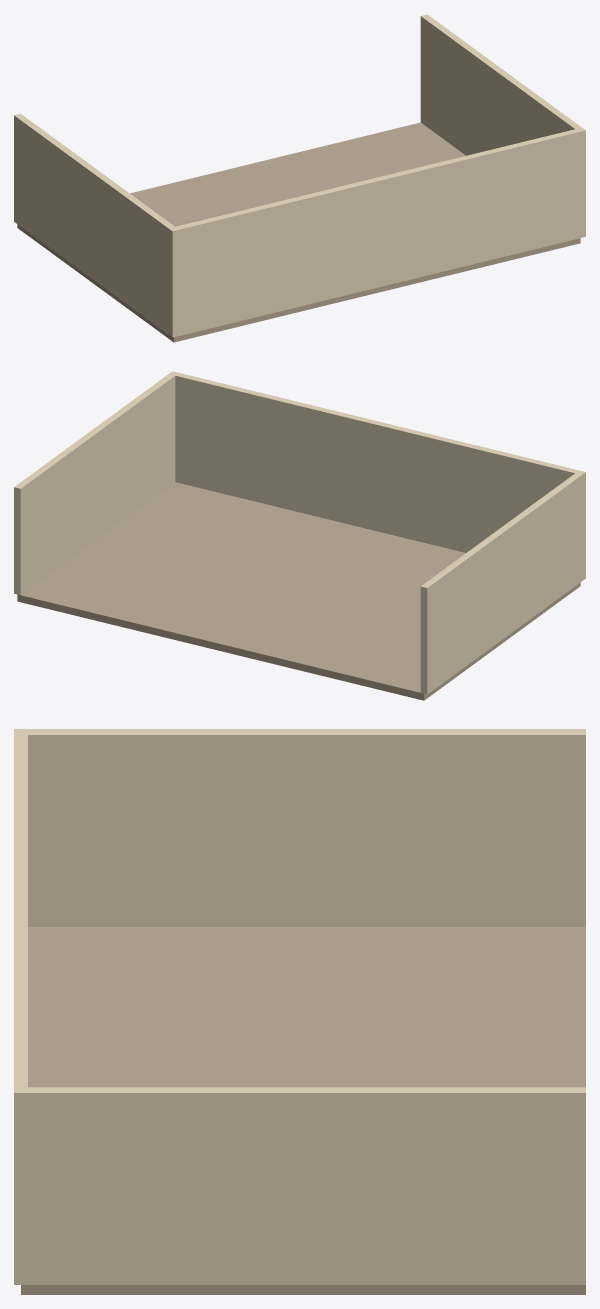
The model's file is SM_Gallery_Shell.fbx.
3 renders of one model, top to bottom at view 1: azimuth 30°, elevation 25°; view 2: azimuth 150°, elevation 25°; view 3: azimuth 270°, elevation 25°, orthographic. The views are drawn at different scales.
Parts seen in each view (by area): view 1: Wall_Back, Wall_Right, Floor.001, Wall_Left.001; view 2: Floor.001, Wall_Back, Wall_Right, Wall_Left.001; view 3: Wall_Left.001, Wall_Right, Floor.001, Wall_Back.
Boxes of the visible parts, bbox=[...] form: Wall_Back: bbox=[168, 128, 585, 337]; Wall_Right: bbox=[14, 113, 174, 334]; Floor.001: bbox=[17, 122, 580, 342]; Wall_Left.001: bbox=[420, 14, 583, 155]; Floor.001: bbox=[17, 482, 580, 700]; Wall_Back: bbox=[169, 371, 585, 580]; Wall_Right: bbox=[420, 472, 583, 694]; Wall_Left.001: bbox=[14, 373, 175, 595]; Wall_Left.001: bbox=[21, 1087, 585, 1284]; Wall_Right: bbox=[21, 729, 585, 926]; Floor.001: bbox=[21, 927, 585, 1294]; Wall_Back: bbox=[14, 729, 27, 1284].
Bounding box in the file's own units: 12.2 × 3.2 × 8.1.
